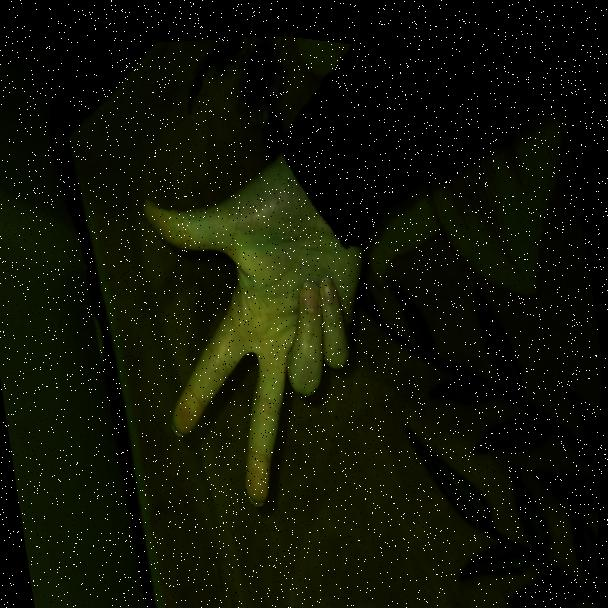three: (121, 130, 393, 531)
